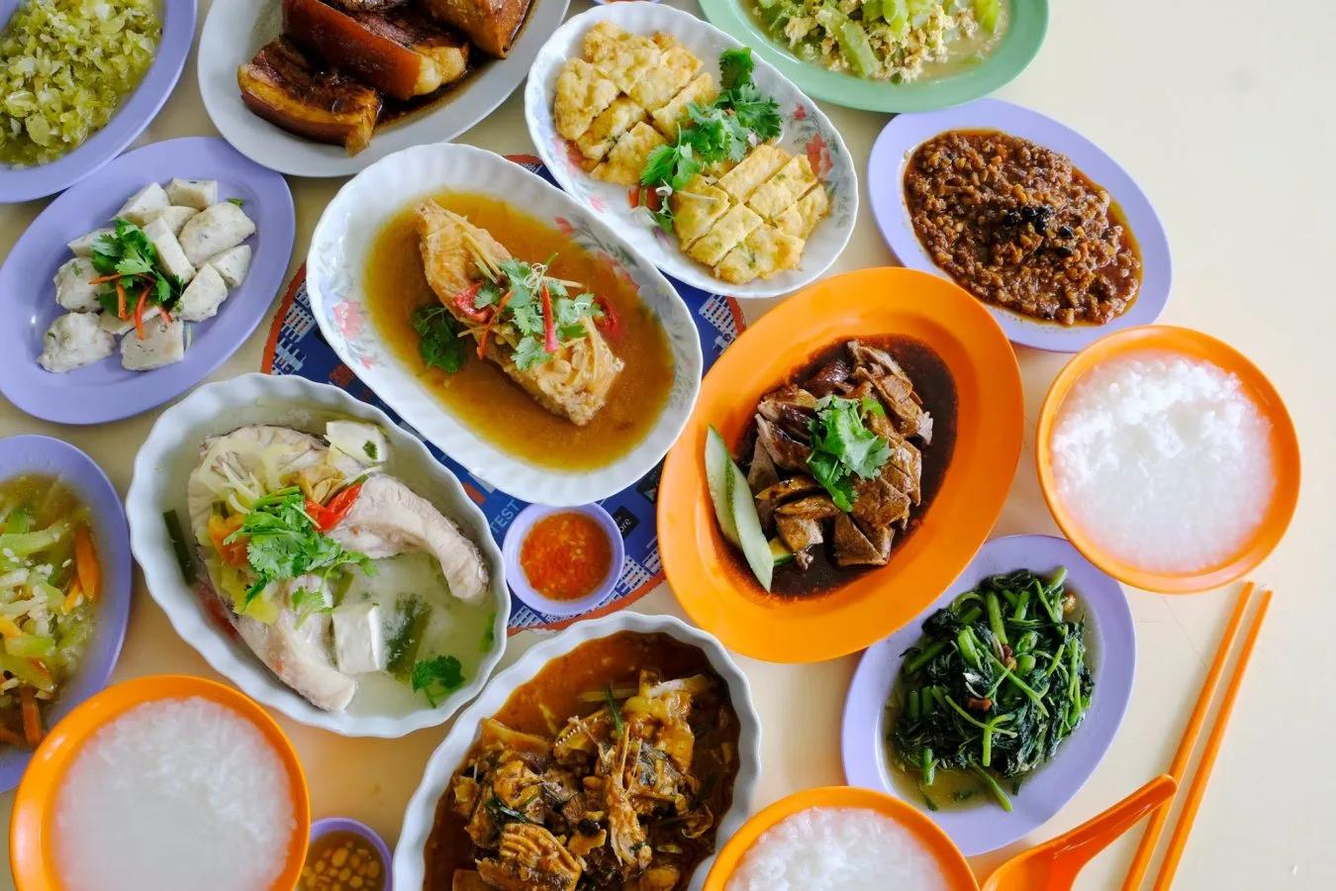Braised Crucian Carp: (656, 261, 1002, 656), (128, 373, 503, 731), (317, 154, 693, 490), (391, 610, 736, 884), (841, 536, 1135, 857), (0, 137, 296, 421), (523, 1, 796, 297), (869, 96, 1173, 355), (1036, 327, 1301, 593), (197, 1, 559, 178), (20, 688, 302, 891), (0, 0, 201, 217), (706, 0, 1038, 112)
